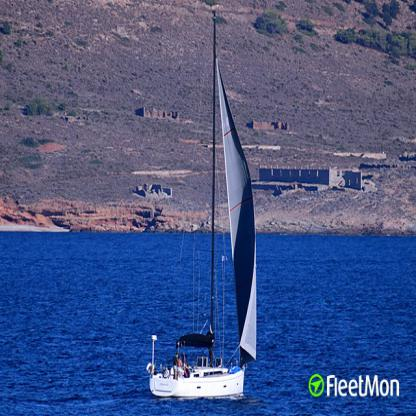Sails Boat: (146, 10, 256, 398)
